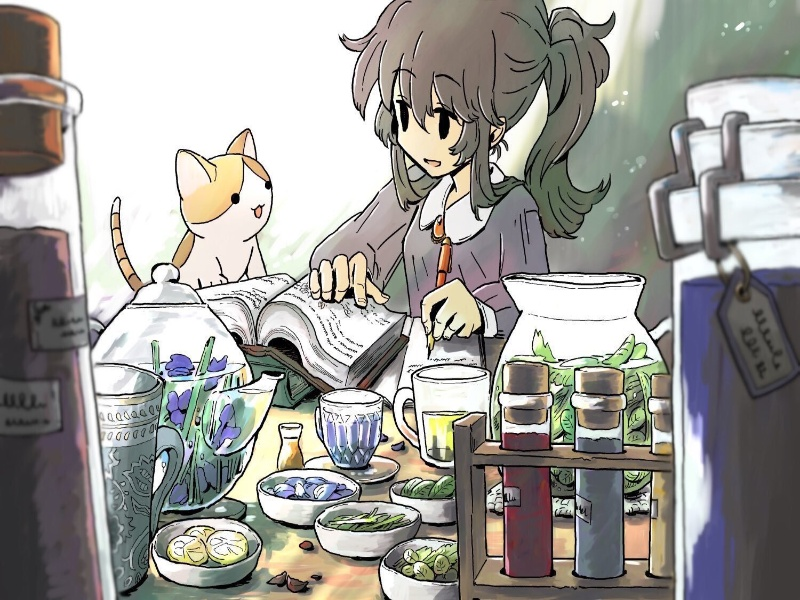person: (374, 61, 506, 179)
